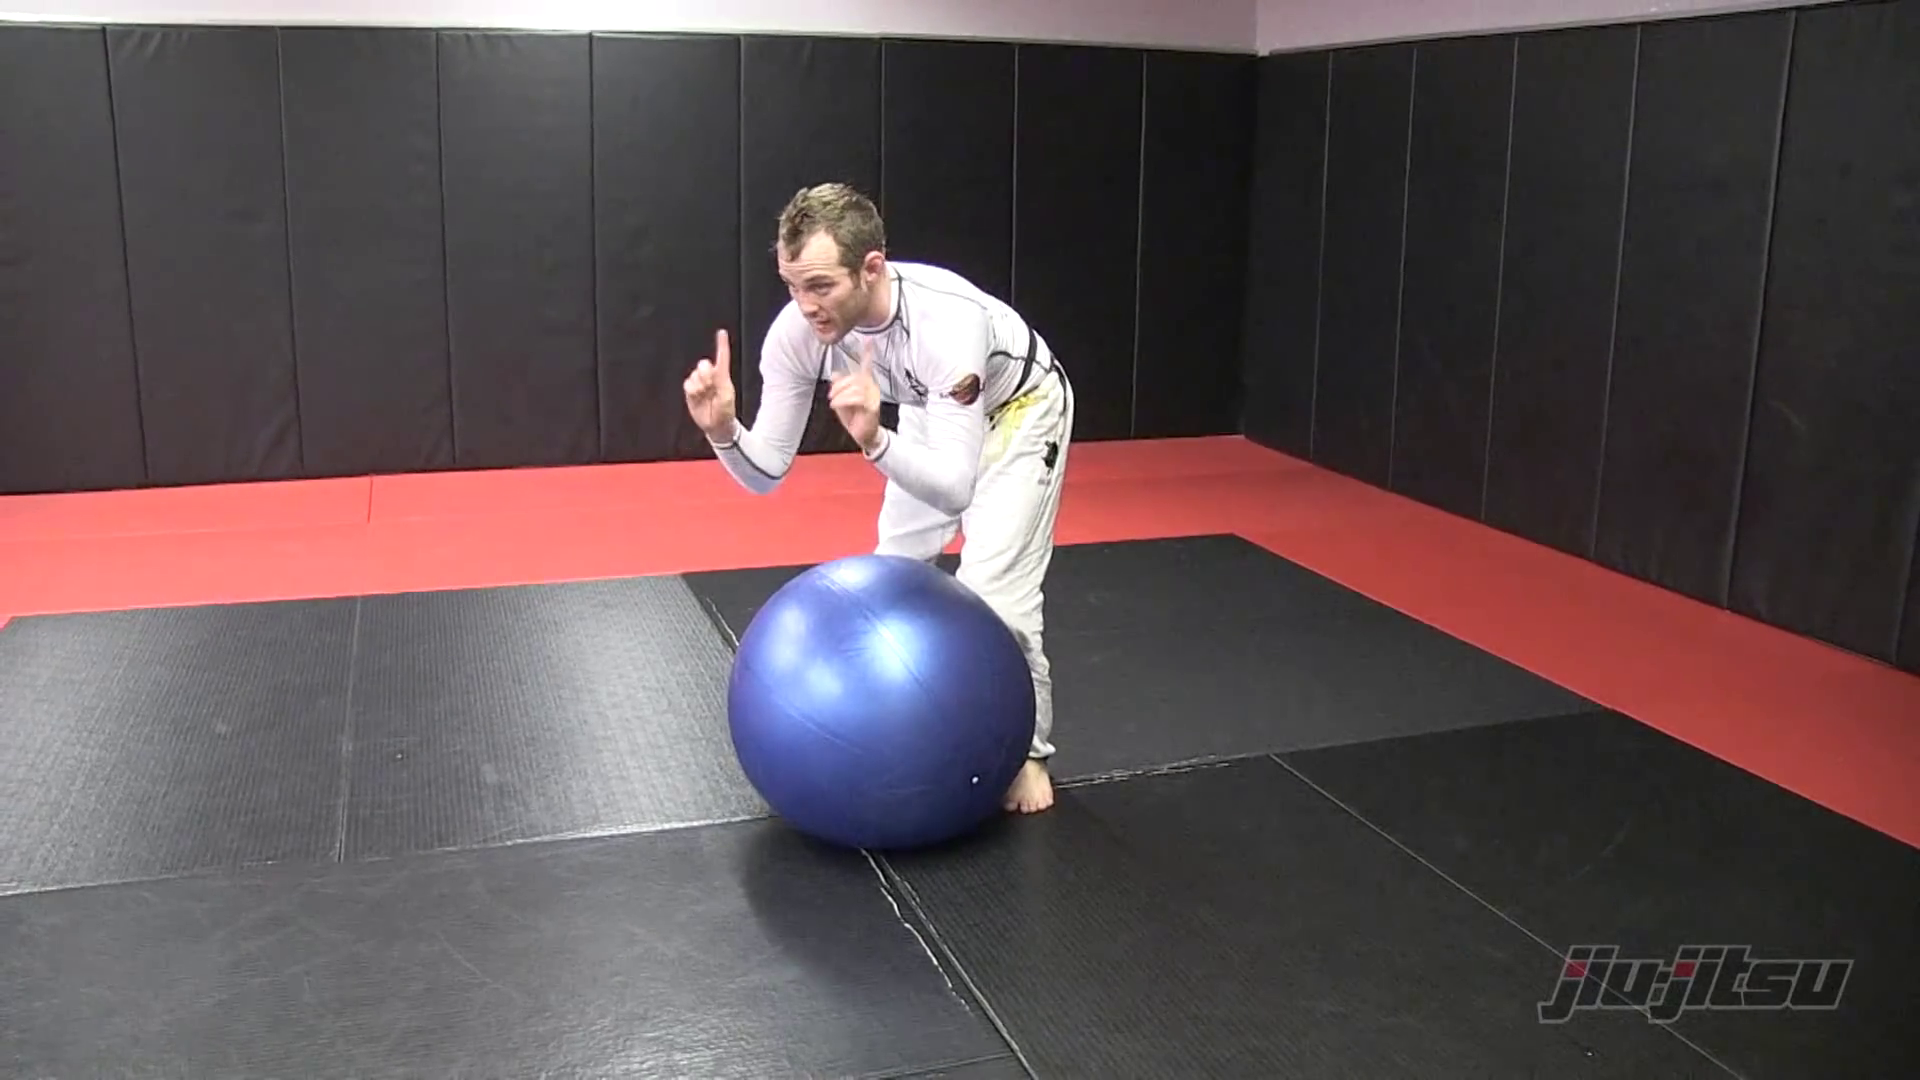yogaball: (713, 549, 1058, 878)
